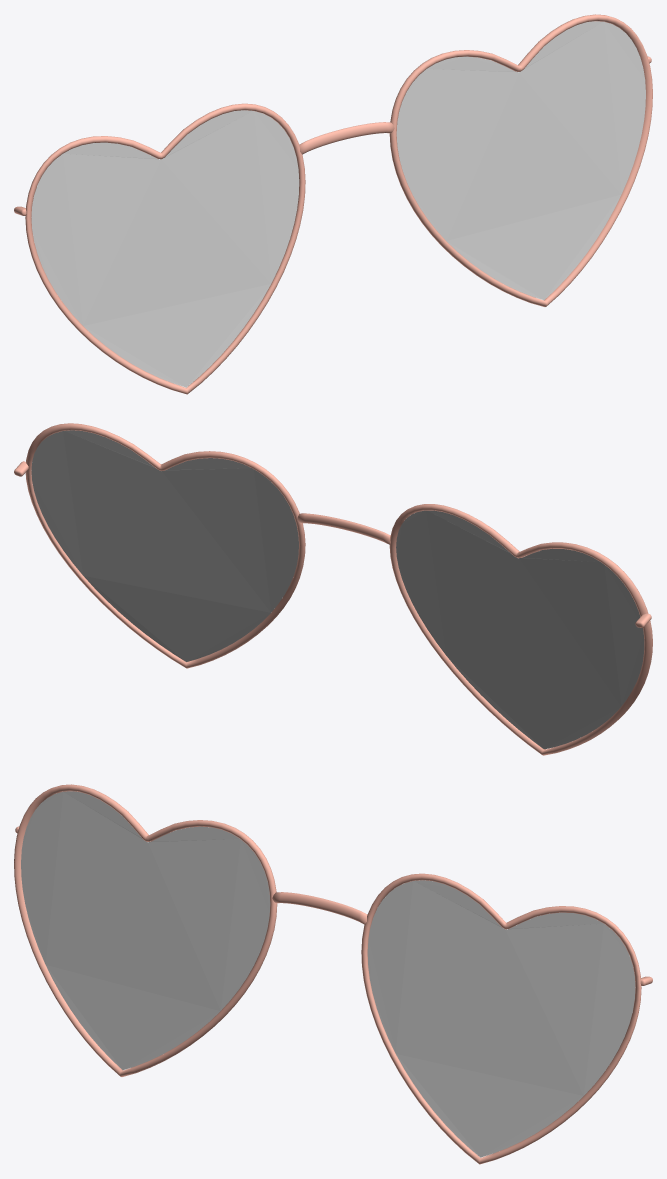
File: glasses.glb
The picture shows the model from 3 angles, top to bottom: view 1: azimuth 30°, elevation 25°; view 2: azimuth 150°, elevation 25°; view 3: azimuth 330°, elevation 25°; orthographic projection.
Visible parts, largest first — view 1: Circle.002_3, Cylinder_6; view 2: Circle.002_3, Cylinder_6; view 3: Circle.002_3, Cylinder_6.
Part boxes in pixels (box(x1,y1,x2,y2)): Circle.002_3: box(31, 21, 645, 387); Cylinder_6: box(25, 14, 652, 394); Circle.002_3: box(31, 430, 644, 749); Cylinder_6: box(25, 423, 652, 755); Circle.002_3: box(21, 791, 635, 1157); Cylinder_6: box(14, 784, 641, 1164).
Bounding box in the file's own units: 4.73 × 1.8 × 0.5083.
